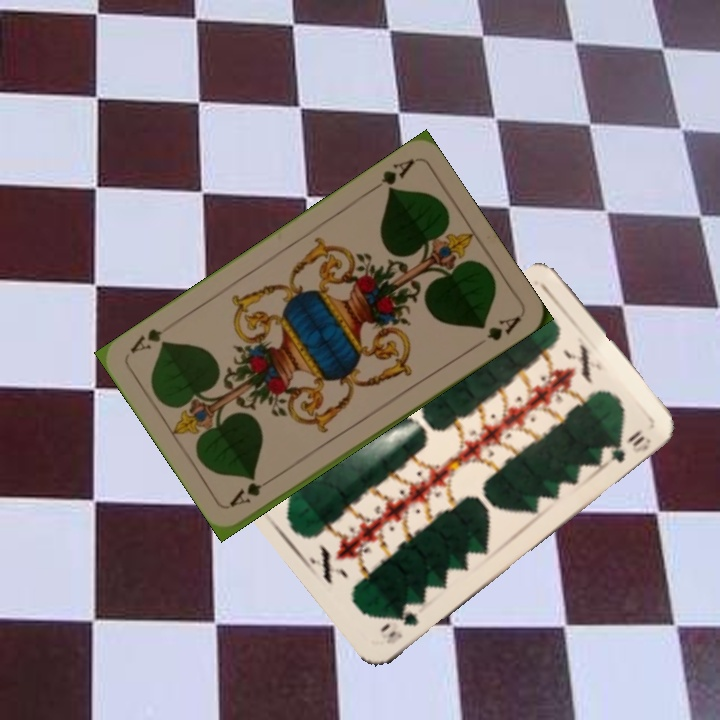G10: (382, 608, 421, 647)
GA: (365, 155, 417, 196), (225, 473, 279, 510)
